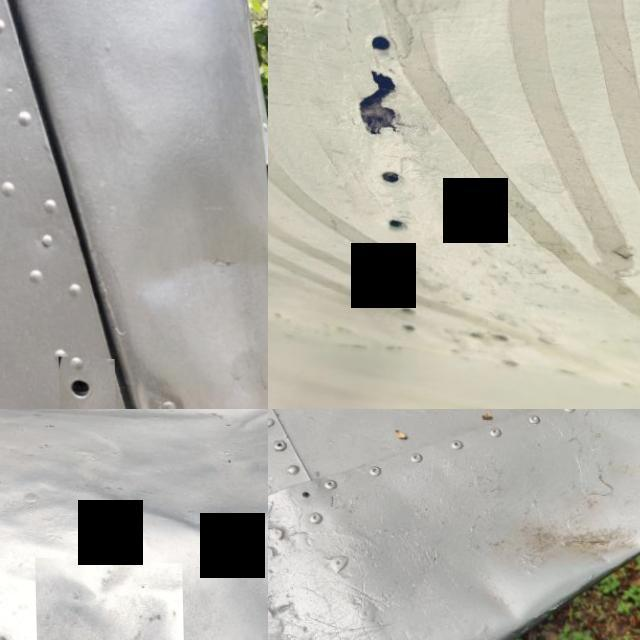Crack: (332, 50, 434, 162)
Dent: (113, 153, 268, 405), (84, 409, 268, 559), (33, 555, 182, 640), (440, 539, 547, 640)
Missing_Fastener: (56, 354, 113, 409)
